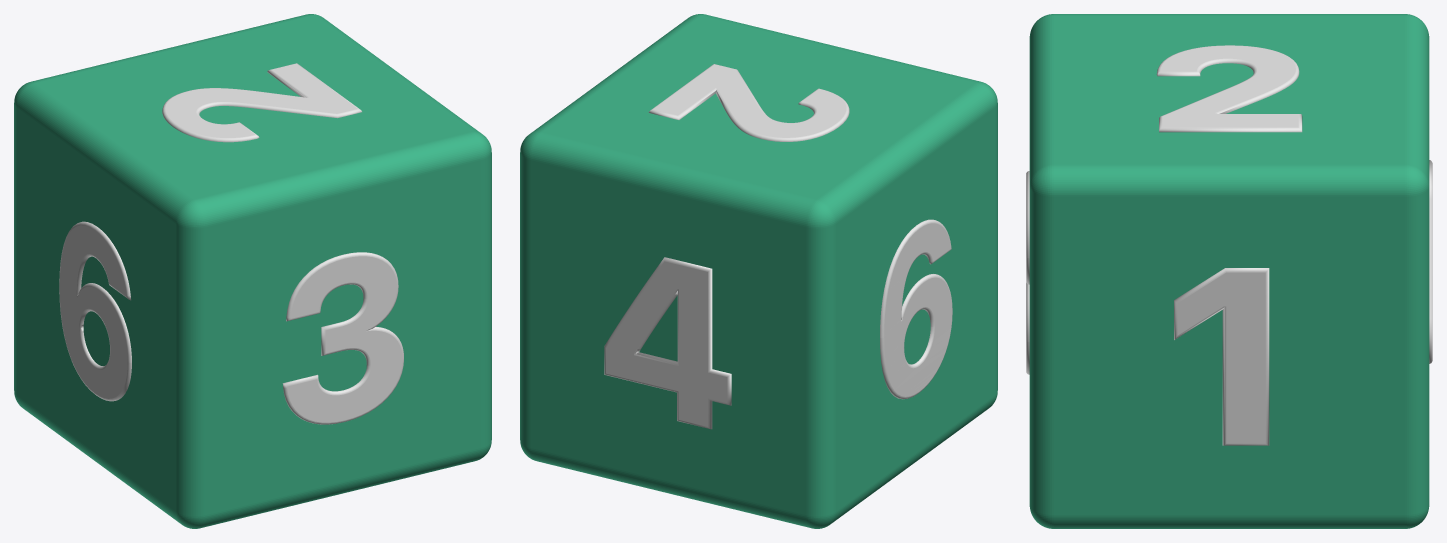
3 views of the same model, side by side, from view 1: azimuth 30°, elevation 25°; view 2: azimuth 150°, elevation 25°; view 3: azimuth 270°, elevation 25° (orthographic). The views are drawn at different scales.
Parts seen in each view (by area): view 1: D6.001; view 2: D6.001; view 3: D6.001.
Part boxes in pixels (x1,y1,x2,y2): D6.001: (14,14,491,528); D6.001: (520,14,997,528); D6.001: (1026,14,1432,528).
Size of the model in its own units: 1.17 by 1.17 by 1.17.
